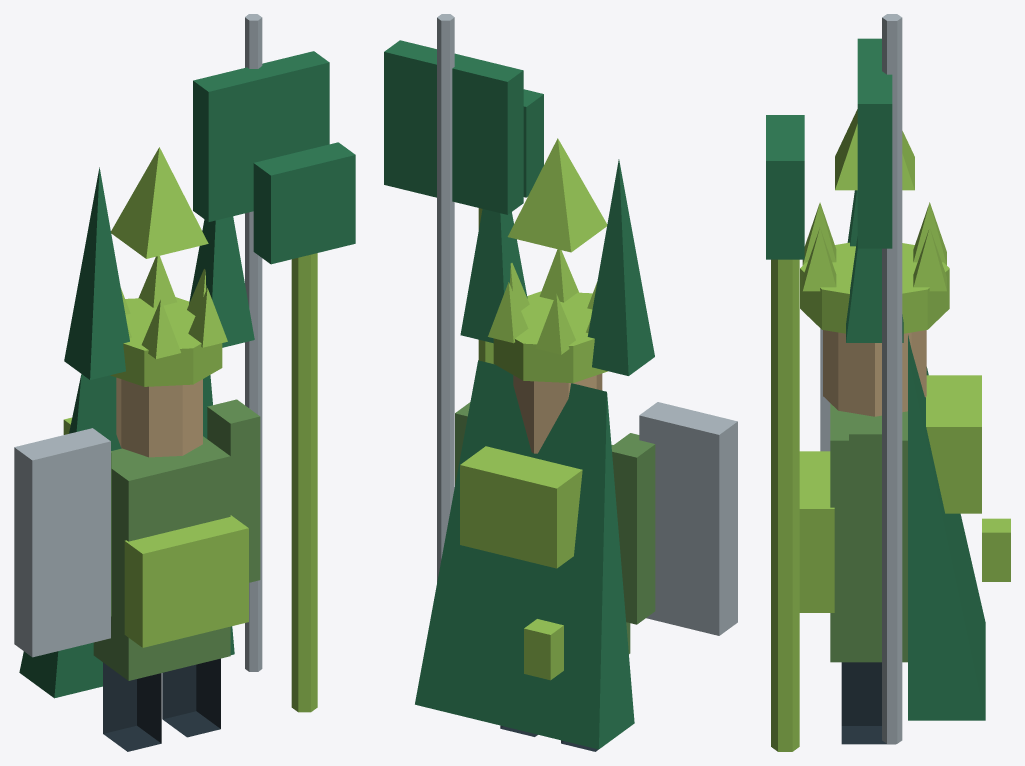
The model's file is healer.obj.
3 renders of one model, left to right at view 1: azimuth 30°, elevation 25°; view 2: azimuth 150°, elevation 25°; view 3: azimuth 270°, elevation 25°, orthographic. The views are drawn at different scales.
Parts seen in each view (by area): view 1: hero; view 2: hero; view 3: hero.
Boxes of the visible parts, x1,y1,x2,y2 form: hero: (14,14,355,751); hero: (384,14,737,751); hero: (766,14,1010,751).
Size of the model in its own units: 1.26 by 2.61 by 0.765.
